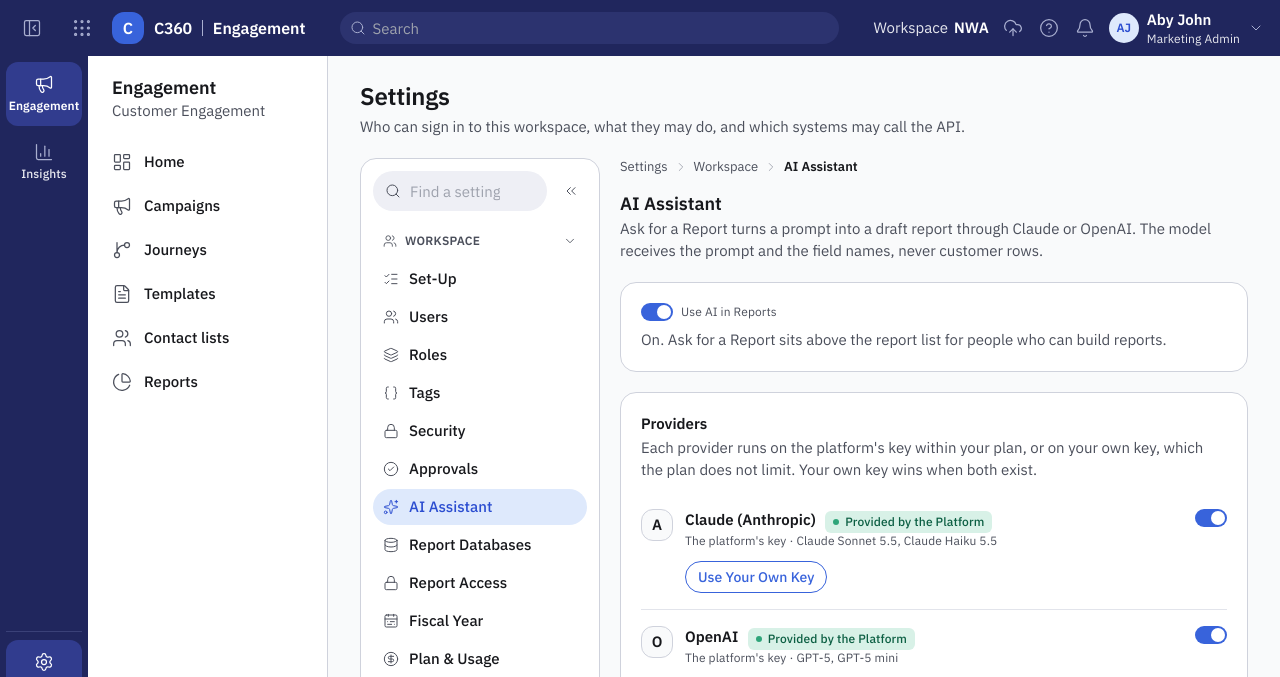
Test: Settings → AI Assistant: the switch, the providers people may pick, Explain, and the month’s prompts; each change is one PUT
The width and height of the screenshot is (1280, 677).
Expected: the heading "AI Assistant" is shown, [620,192,722,215]
Expected: the link "AI Assistant" is shown, [373,489,587,525]
Click the switch named "Allow OpenAI" at (1211, 635), box [1195,626,1227,644]
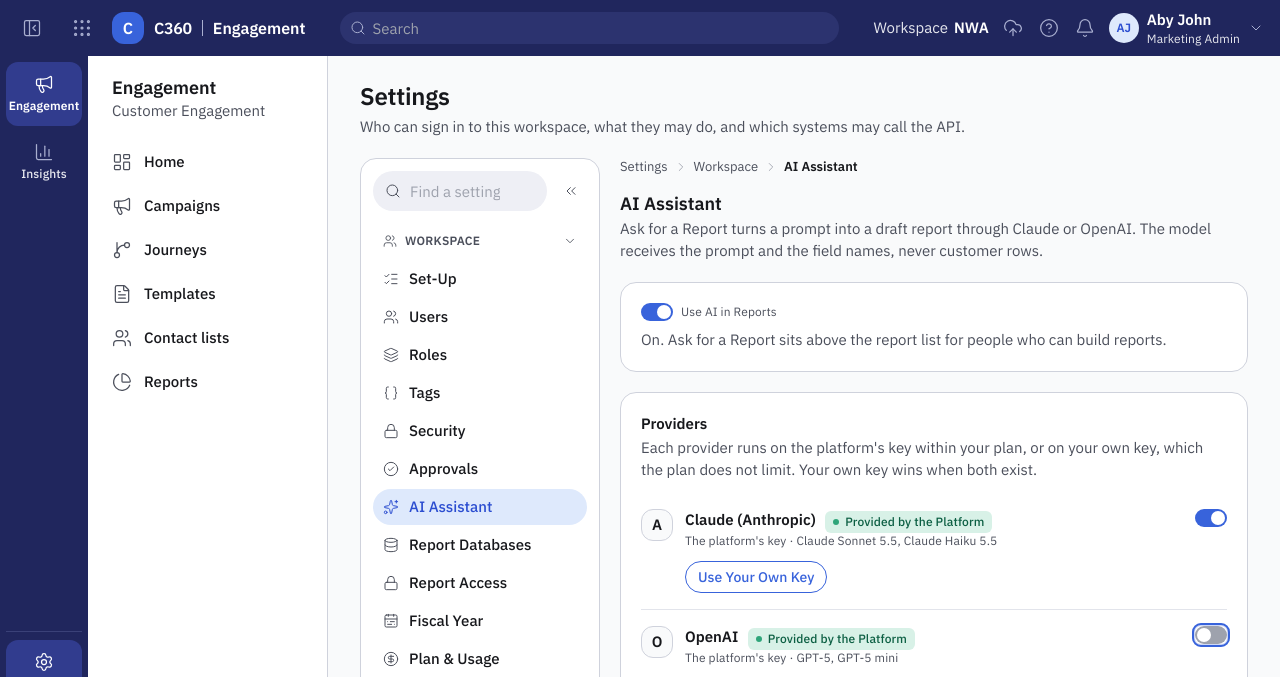
Click the switch labelled "Use AI in Reports" at (709, 312), box [641,303,777,321]
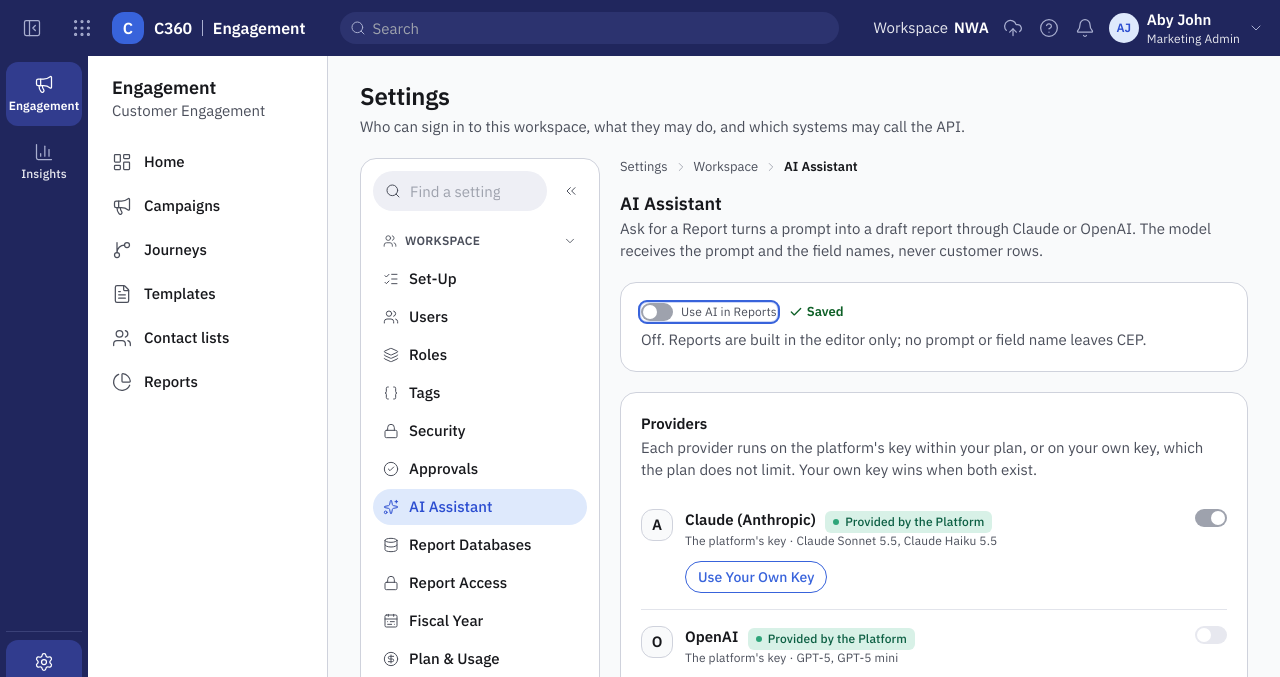
Now the text "Off. Reports are built in the editor only" is shown, box [641,330,1146,349]
Now the switch named "Allow Claude (Anthropic)" is disabled, box [1195,509,1227,527]
